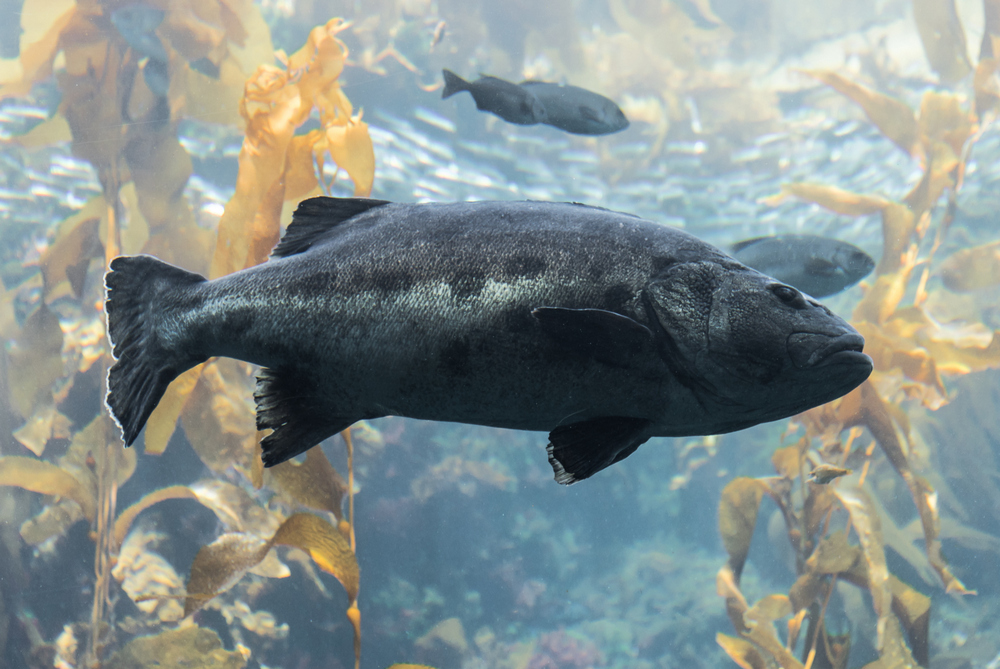Giant Bass: (73, 49, 953, 566)
